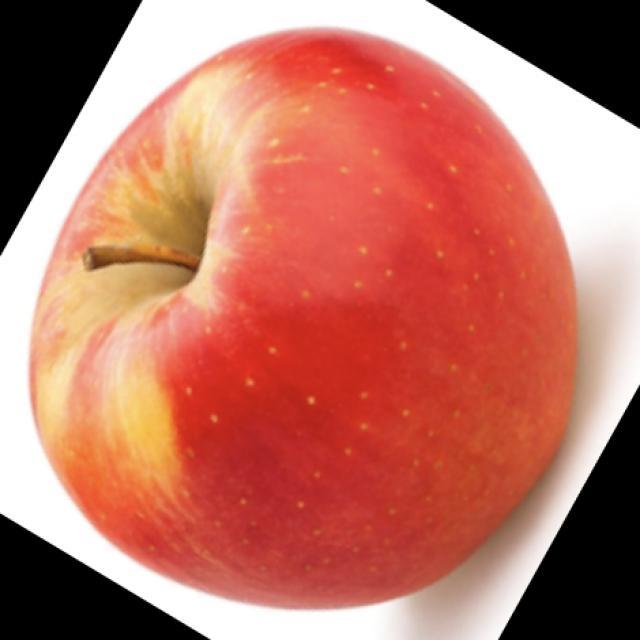Fresh Apple: (35, 30, 597, 640)
